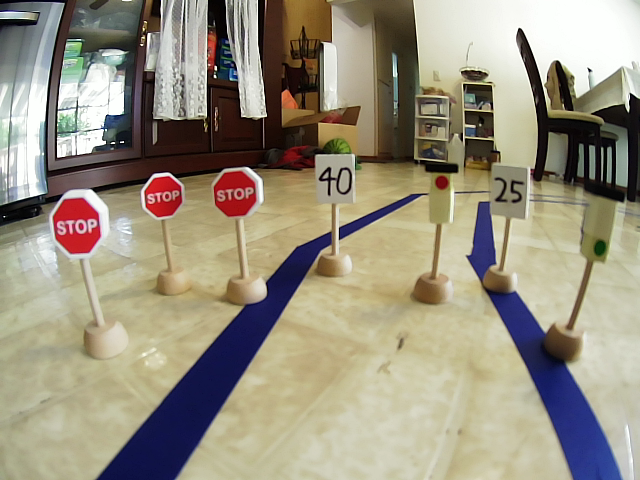25: (491, 164, 532, 221)
40: (316, 154, 357, 204)
green: (581, 180, 628, 270)
red: (424, 164, 459, 227)
stop: (51, 187, 110, 259), (211, 165, 267, 221), (138, 171, 187, 219)
